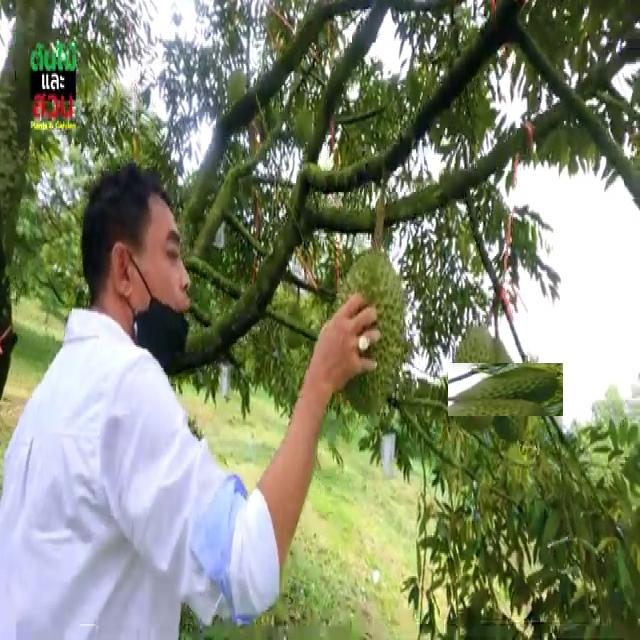durian: (327, 246, 411, 424), (464, 347, 548, 432), (445, 320, 500, 437), (290, 106, 315, 152)
